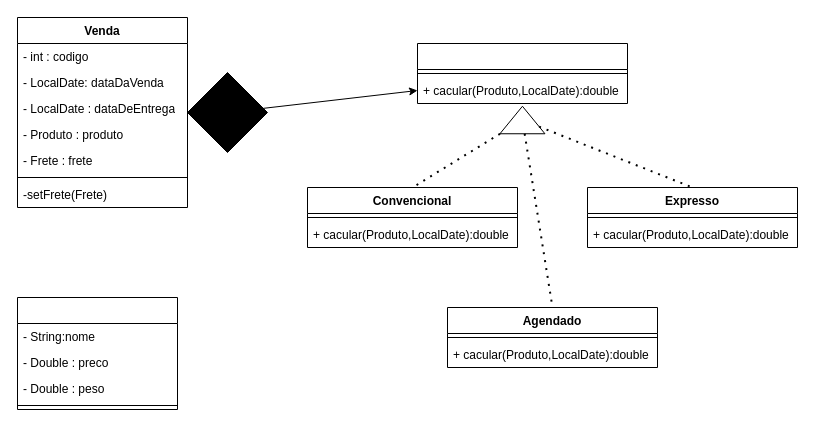
This 815x427 diagram has some shape labels left out. Each missing label, with the box of its shape:
<<Frete>>: (416, 42, 628, 104)
Produto: (16, 296, 178, 410)
